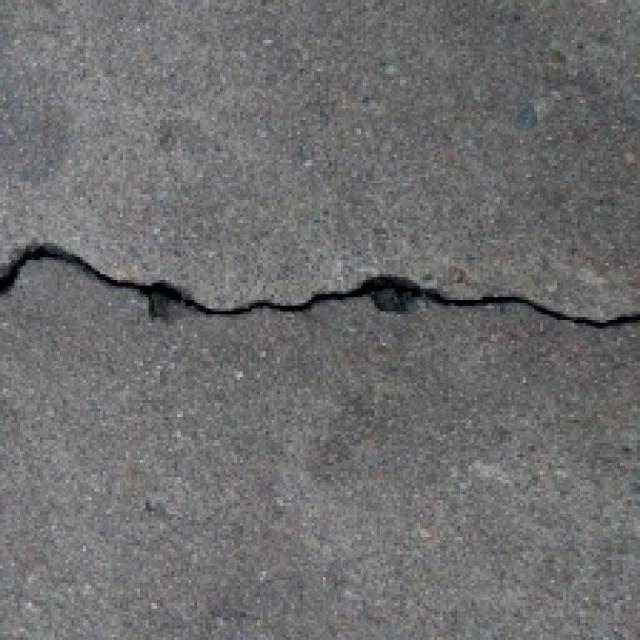crack: (0, 204, 640, 378)
